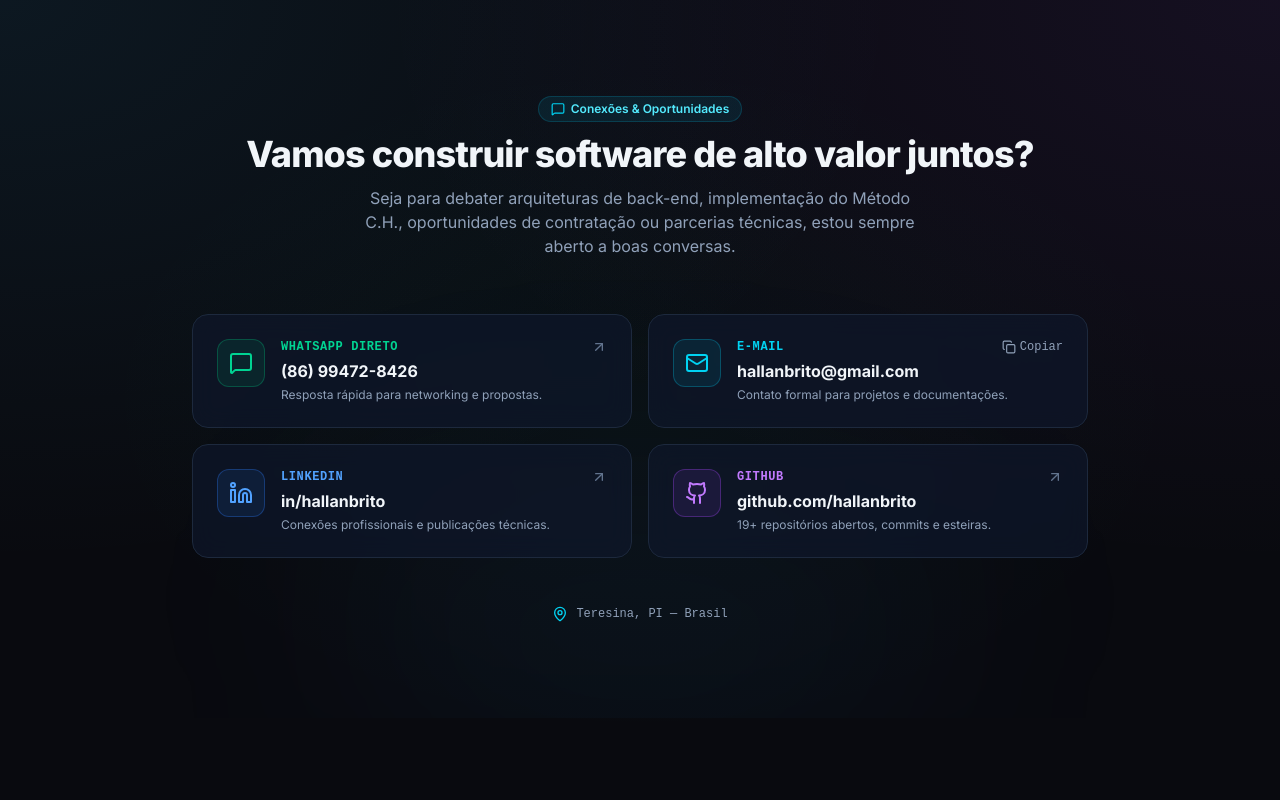
Scenario: ContactSection Component › copies email to clipboard on copy button click
Click the button "Copiar": click(1032, 347) [1002,339,1063,355]
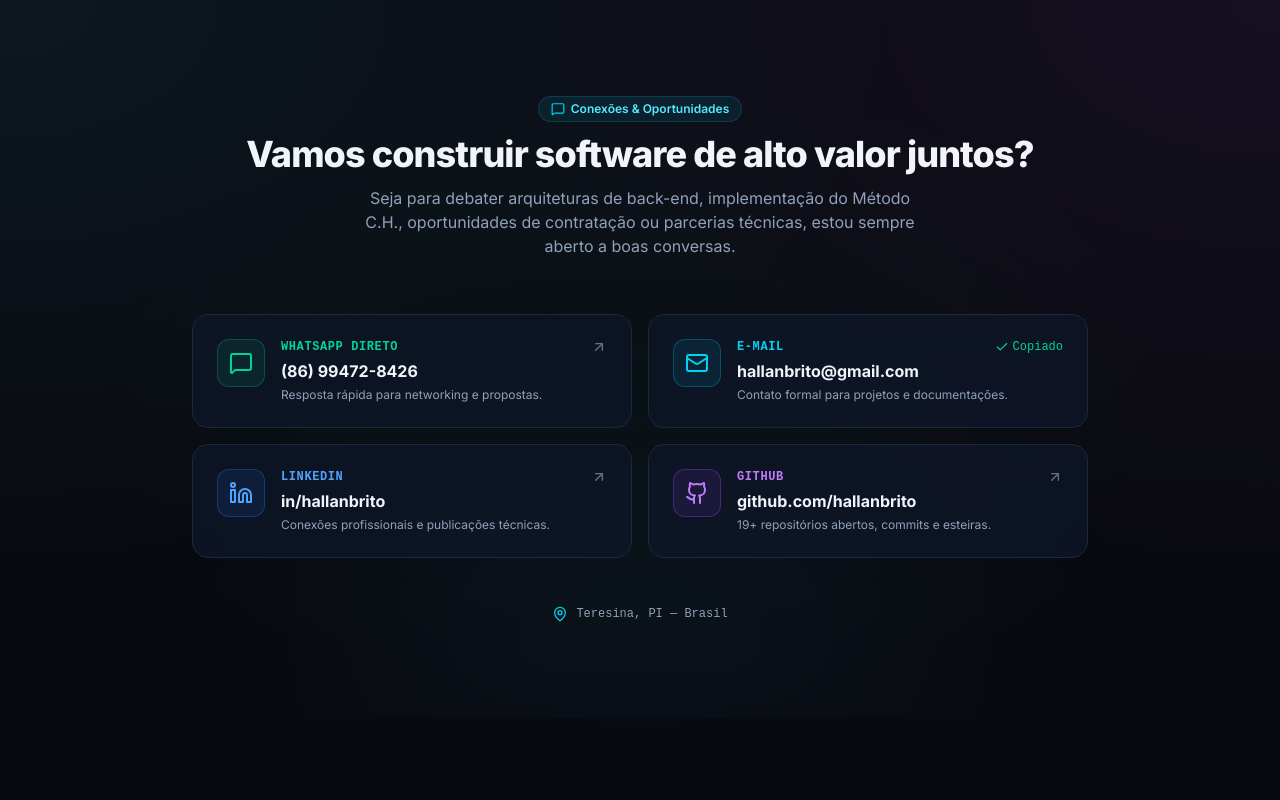
expect the text "Copiado" is shown: met, box [1013,339,1063,355]
